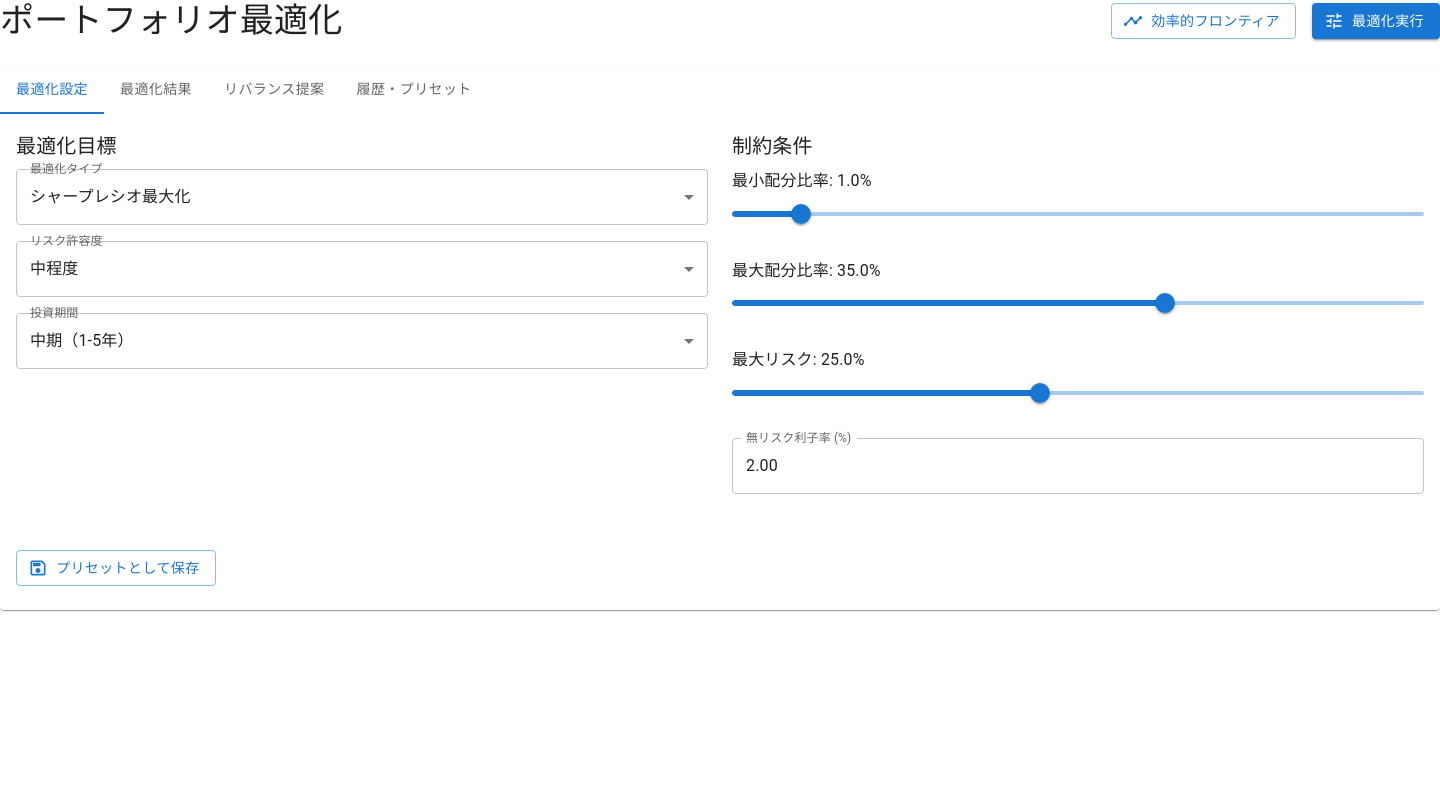
PortfolioOptimization › 最適化実行 › 最適化実行ボタンクリックでダイアログが開く
Click the button "最適化実行".
click(1376, 21)  # box [1312,3,1439,39]
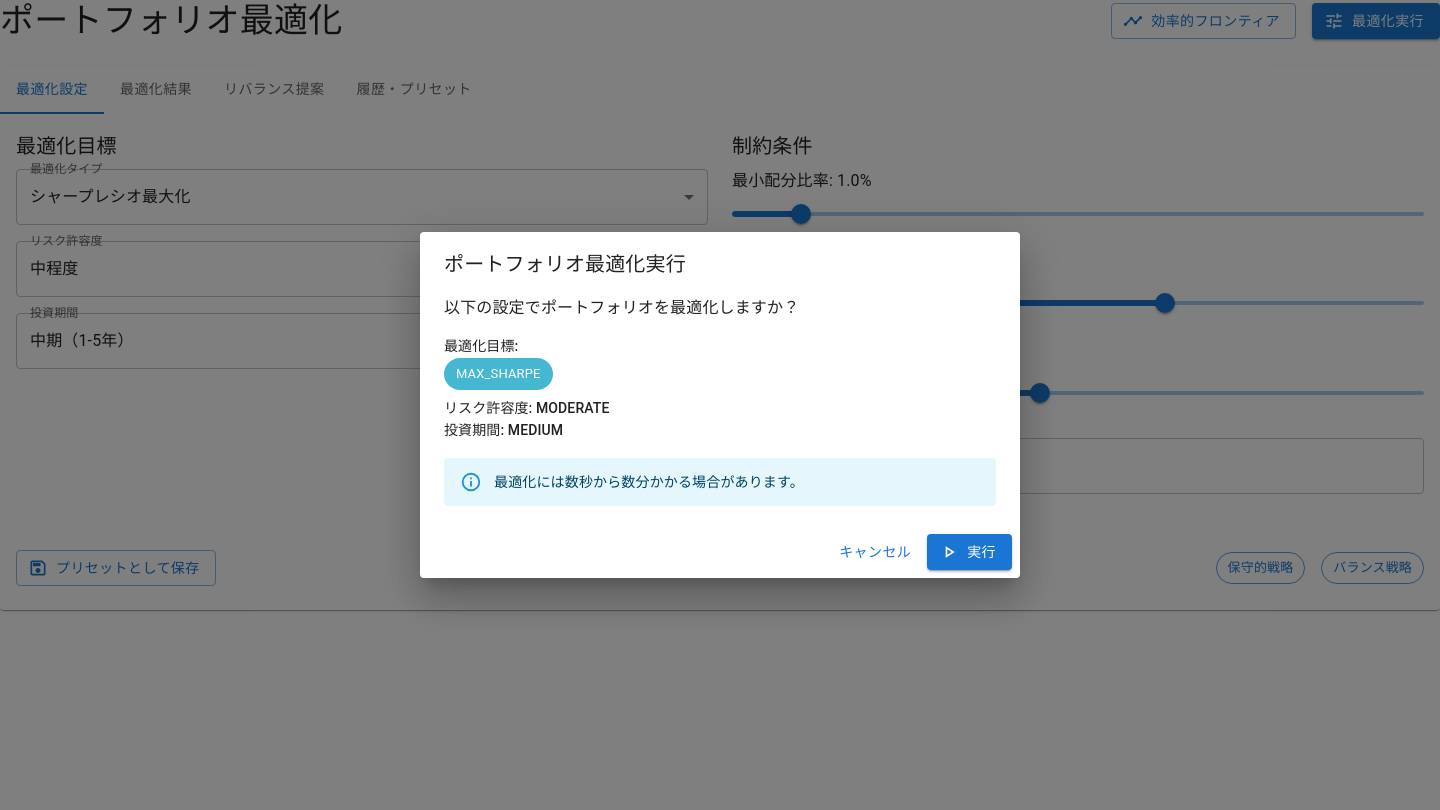
Check: the heading "ポートフォリオ最適化実行" is shown, box [444,252,686,276]
Check: the text "以下の設定でポートフォリオを最適化しますか？" is shown, box [444,298,799,317]
